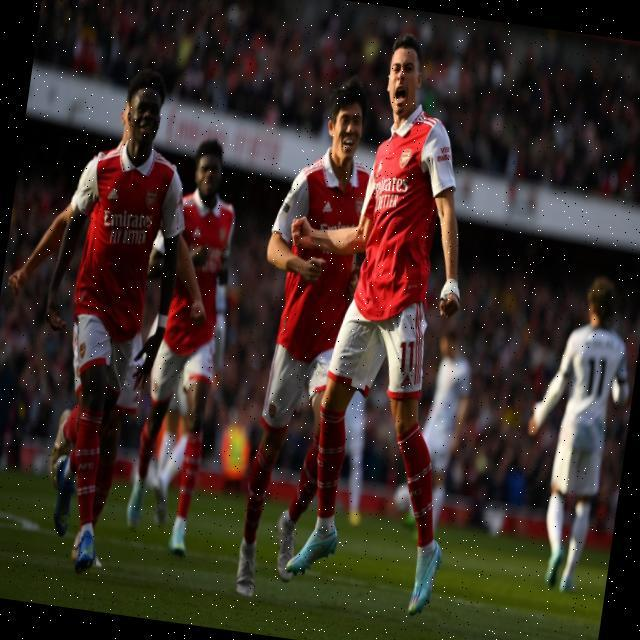Adidas: (107, 187, 121, 205), (322, 199, 335, 216), (401, 372, 414, 389), (191, 225, 204, 241), (377, 160, 383, 174)
Emirates: (102, 207, 157, 236), (373, 173, 410, 199)
